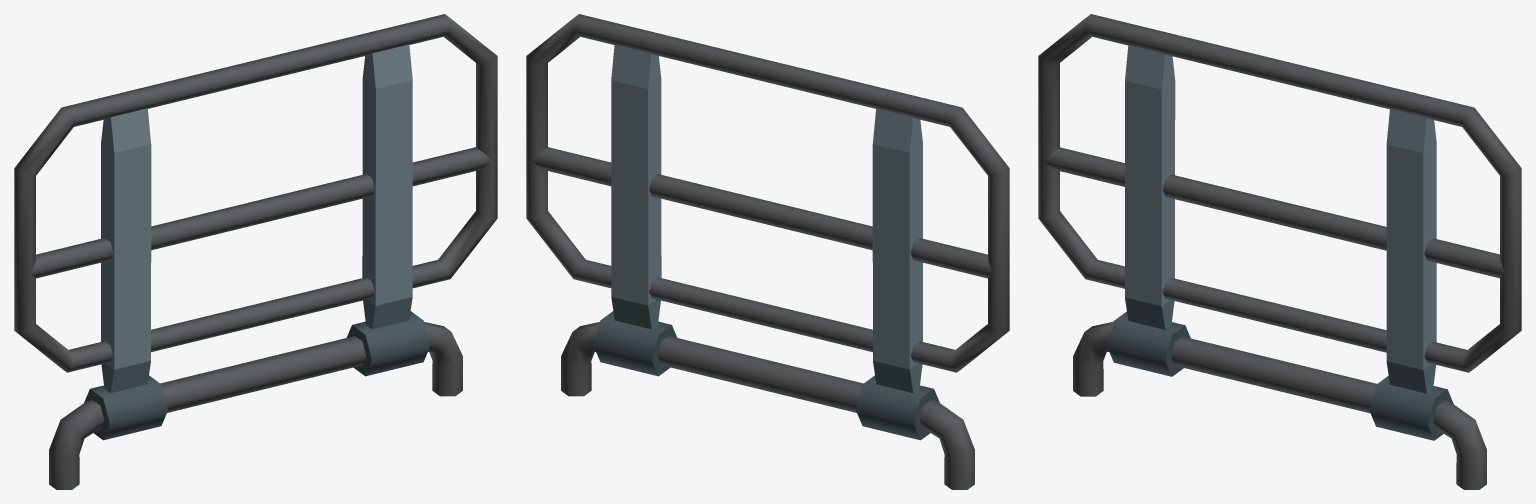
The model's file is Fence_type_B_006.fbx.
3 renders of one model, left to right at view 1: azimuth 30°, elevation 25°; view 2: azimuth 150°, elevation 25°; view 3: azimuth 330°, elevation 25°, orthographic.
Visible parts, largest first — view 1: Fence_type_B_006; view 2: Fence_type_B_006; view 3: Fence_type_B_006.
Part boxes in pixels (x1,y1,x2,y2): Fence_type_B_006: (14,14,497,489); Fence_type_B_006: (526,14,1009,489); Fence_type_B_006: (1038,14,1521,489).
Size of the model in its own units: 190 by 18.39 by 142.
